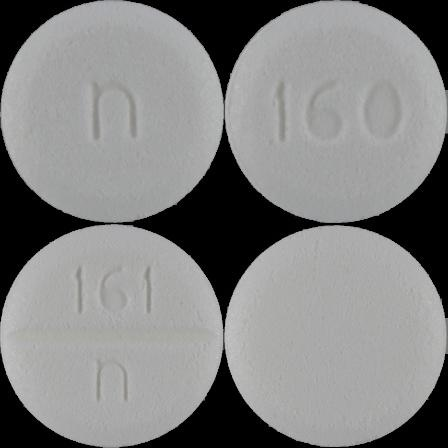43386-160: (0, 0, 224, 224)
